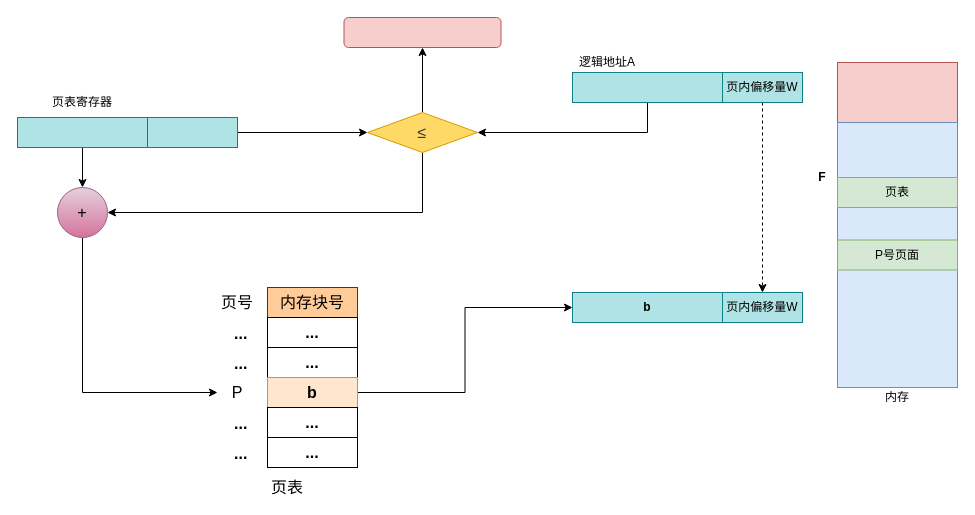
This 975x515 diagram has some shape labels left out. The centre of each missing label's shape, as x and y in pixels:
系统区: the point at 897,92
越界中断（内中断）: the point at 422,32
页号P: the point at 647,87
页表起始地址F: the point at 82,132
页表长度M: the point at 192,132
